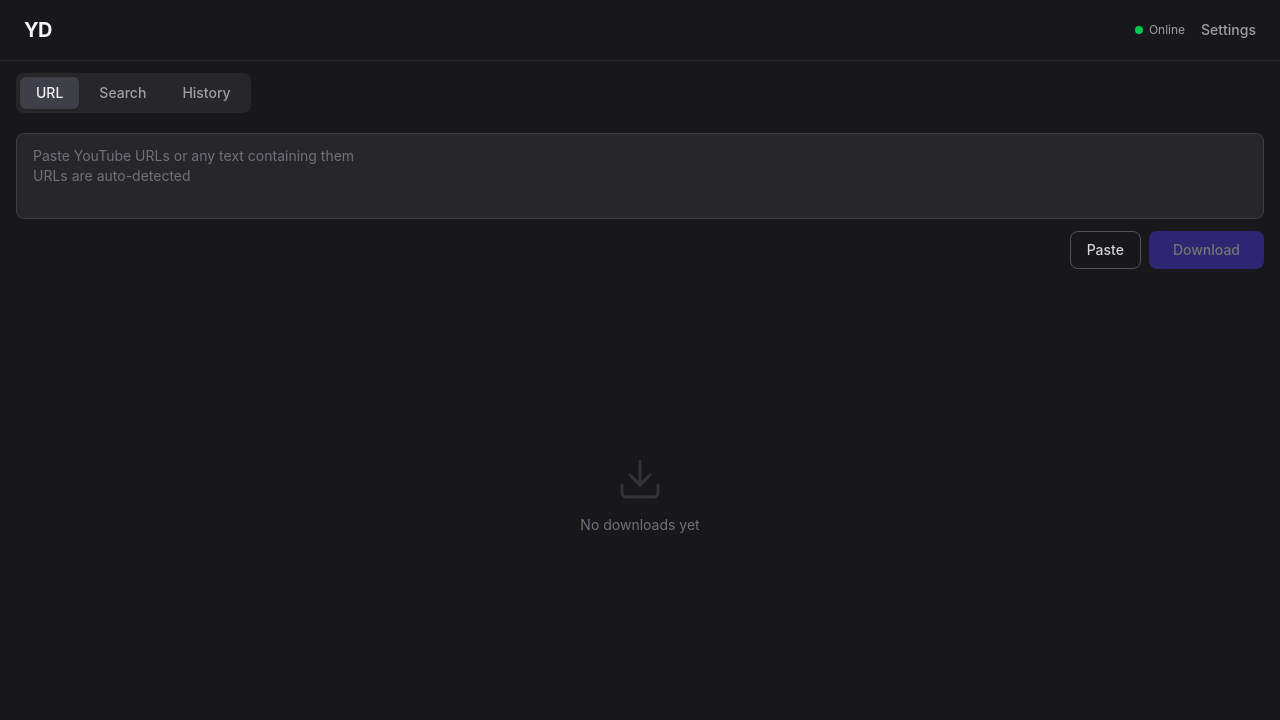
Test: App › closes the drawer when Escape is pressed
Click the button "Settings". click: [1229, 30]
box: [1201,20,1256,40]
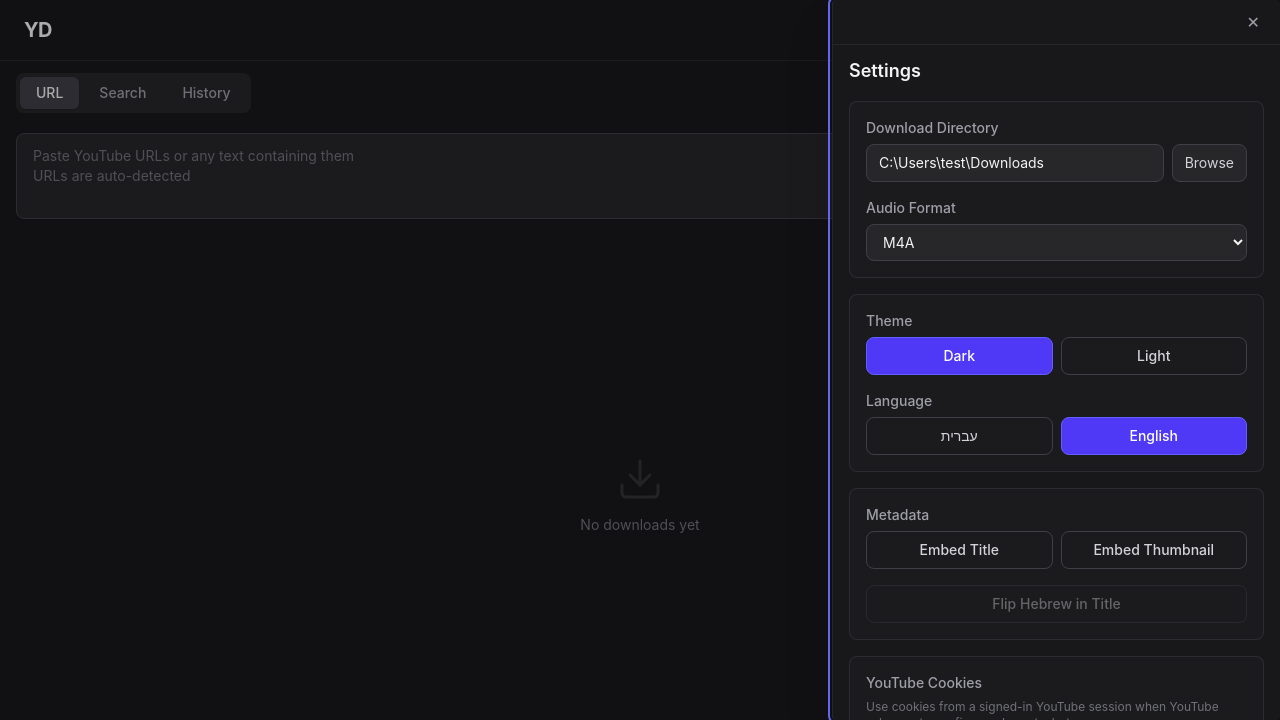
Press Escape in the dialog "Settings", box [832,0,1279,719]
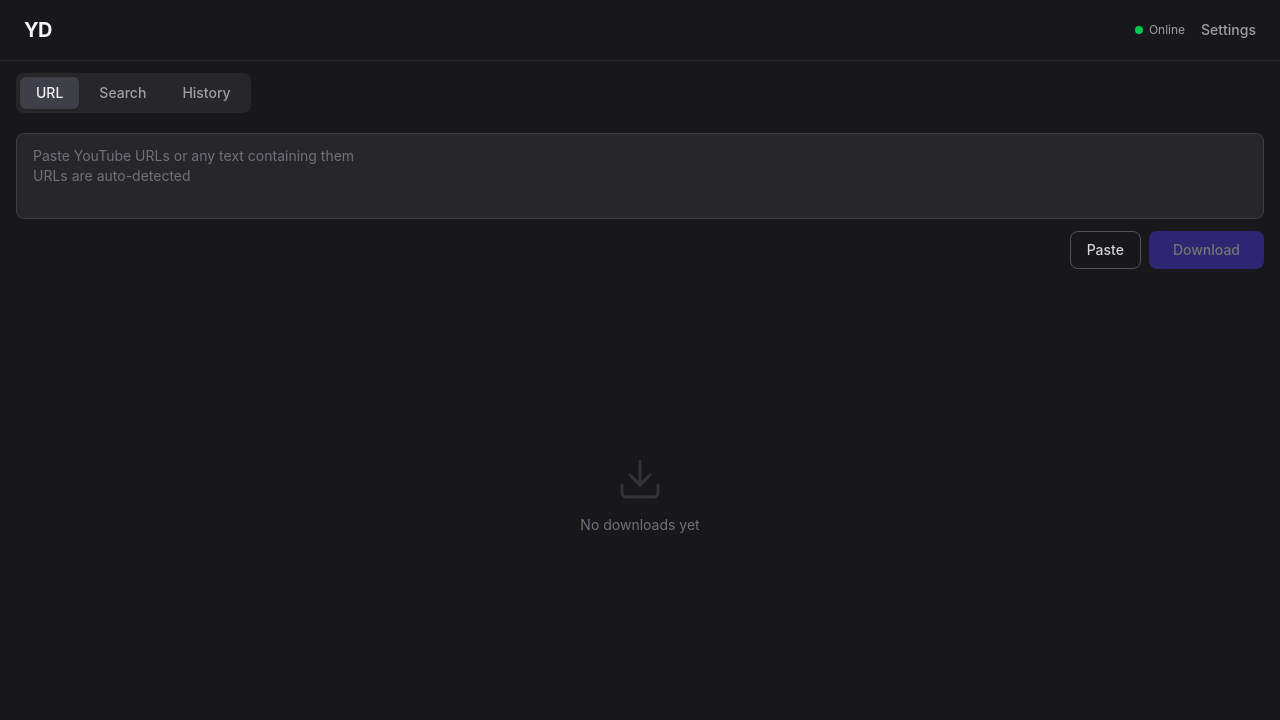
Expected: the dialog is gone
